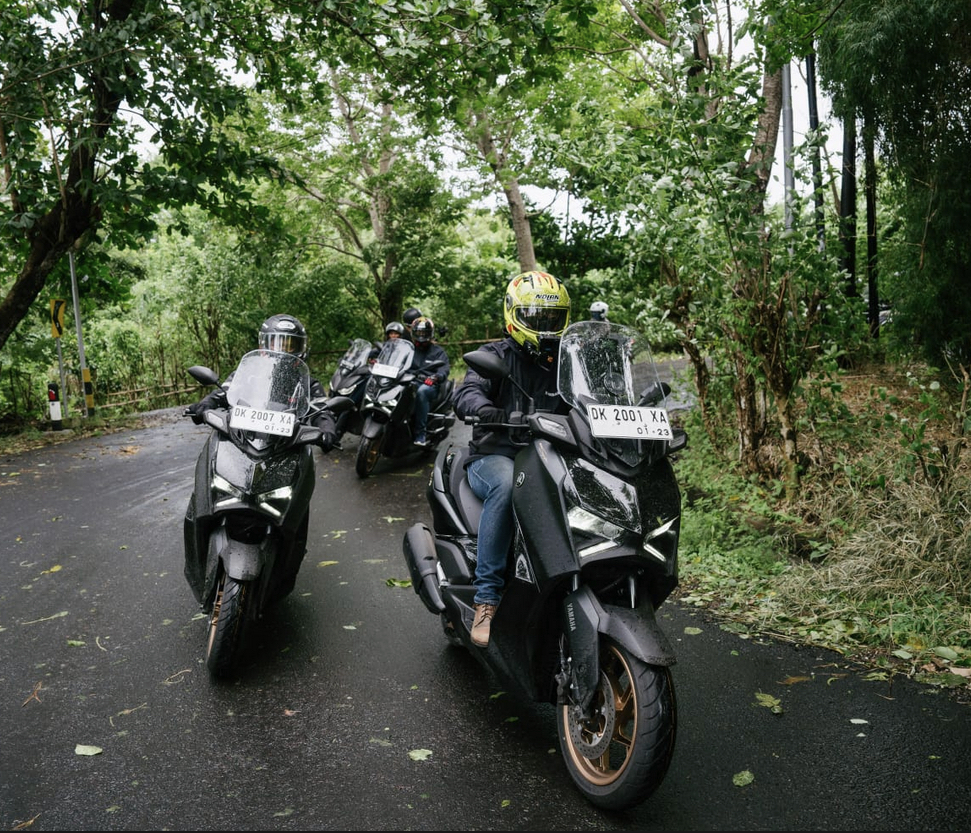Mobil: (578, 401, 686, 459), (223, 408, 306, 447)
Plat: (439, 294, 717, 793), (165, 300, 333, 695), (377, 333, 428, 496), (318, 324, 367, 451)
